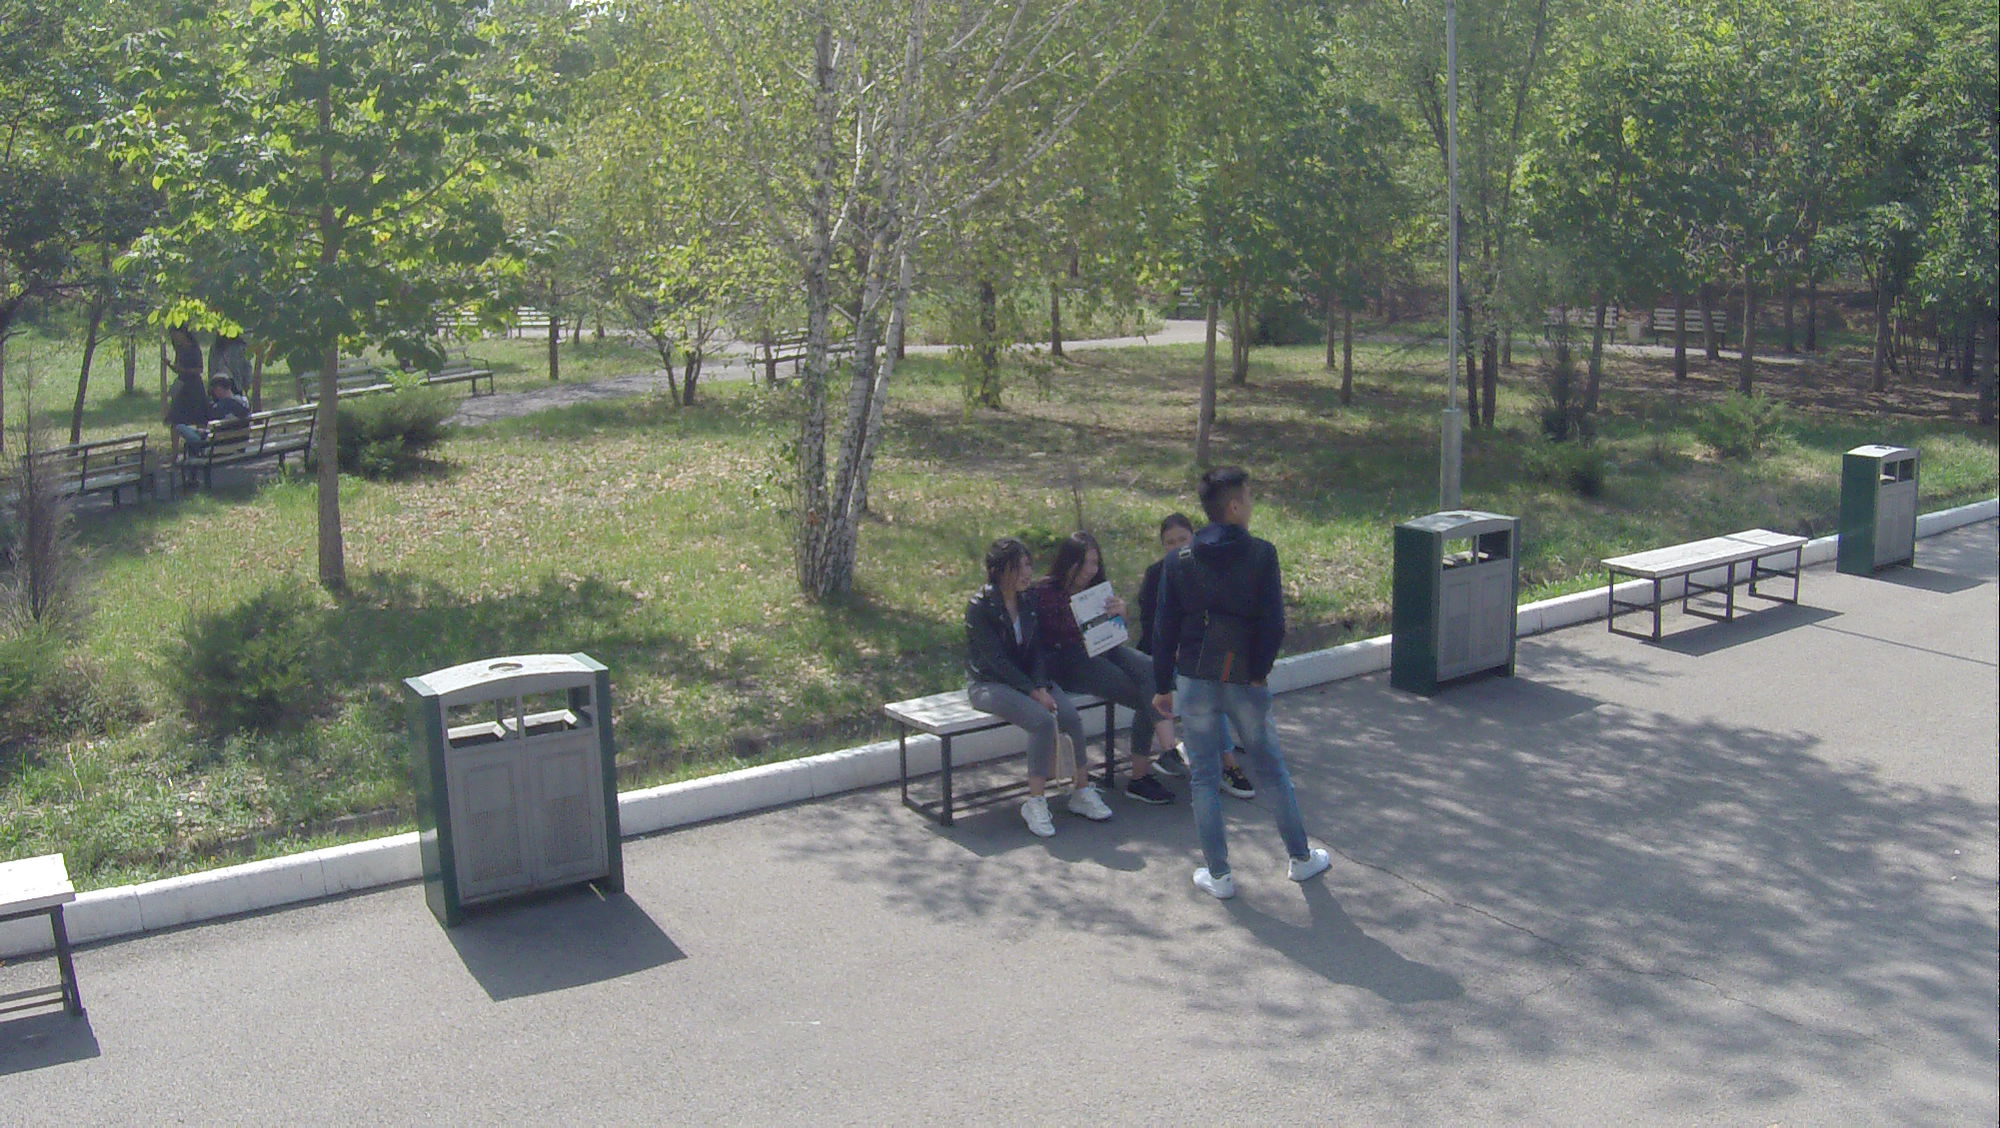person: (1178, 455, 1324, 920), (1047, 522, 1203, 837), (964, 543, 1112, 847)
